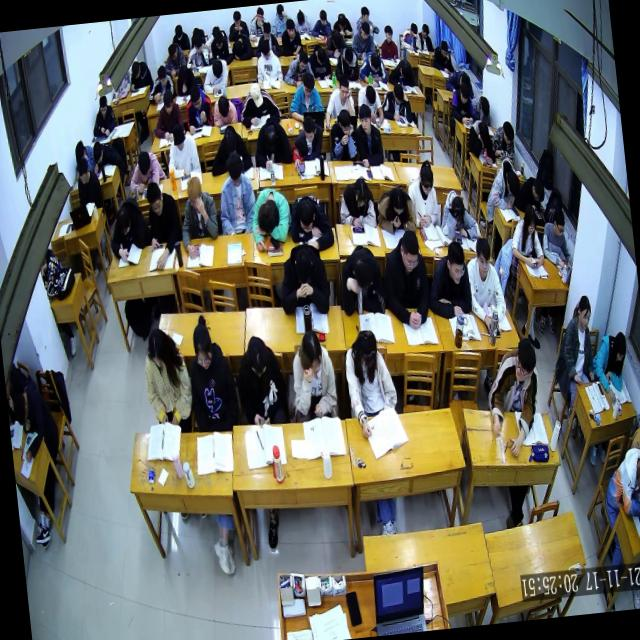bow: (247, 181, 296, 252), (286, 188, 336, 252), (106, 194, 150, 264), (250, 113, 295, 174), (206, 120, 253, 176), (436, 186, 481, 244), (237, 76, 282, 132), (372, 183, 418, 237), (124, 146, 168, 198), (278, 49, 314, 90), (514, 173, 548, 212), (357, 48, 388, 89), (90, 136, 122, 171), (386, 56, 416, 91), (172, 62, 198, 99), (443, 67, 473, 98), (320, 26, 347, 58), (127, 58, 153, 91), (230, 30, 254, 61)
down: (8, 372, 61, 464), (298, 325, 326, 376), (189, 320, 216, 370), (244, 331, 272, 379), (396, 226, 422, 274), (443, 237, 468, 285), (348, 245, 374, 291), (145, 326, 169, 371), (356, 327, 380, 372), (291, 247, 315, 289), (144, 178, 166, 218), (296, 194, 317, 234), (184, 173, 205, 211), (224, 150, 244, 187), (258, 121, 280, 153), (12, 388, 30, 425), (418, 161, 436, 198), (113, 206, 133, 239), (351, 174, 370, 207), (610, 330, 628, 364), (389, 185, 407, 218), (449, 194, 466, 228), (170, 121, 188, 153), (521, 204, 538, 237), (503, 168, 520, 199), (160, 86, 177, 116), (220, 126, 238, 154), (300, 114, 317, 143), (135, 150, 153, 177), (75, 156, 91, 186), (188, 82, 204, 112), (300, 69, 316, 99), (336, 108, 352, 138), (551, 207, 567, 237), (248, 80, 265, 108), (336, 74, 352, 102), (390, 78, 406, 105), (530, 175, 546, 202), (476, 118, 491, 146), (216, 94, 232, 120), (90, 138, 104, 166), (501, 120, 516, 146), (398, 58, 413, 83), (210, 58, 224, 82), (296, 48, 310, 72), (363, 82, 377, 106), (358, 18, 372, 42), (185, 240, 201, 261), (314, 45, 328, 68), (259, 36, 272, 60), (369, 50, 382, 74), (457, 80, 470, 104), (478, 93, 491, 117), (342, 44, 355, 67), (129, 59, 143, 80), (633, 460, 640, 501), (192, 34, 205, 56), (167, 41, 180, 62), (97, 94, 109, 116), (176, 62, 188, 84), (230, 8, 242, 30), (261, 20, 273, 42), (212, 30, 225, 50), (331, 30, 344, 50), (284, 18, 296, 39), (335, 9, 347, 30), (274, 3, 286, 23), (438, 37, 449, 58), (172, 23, 183, 42), (295, 8, 306, 27), (318, 8, 328, 28), (420, 22, 430, 40), (408, 22, 418, 40)
lookup: (473, 235, 493, 279), (574, 294, 592, 331), (356, 101, 374, 134), (154, 62, 170, 86), (254, 6, 266, 27), (383, 24, 394, 44)
sit: (481, 335, 546, 460), (180, 311, 240, 435), (341, 325, 401, 440), (138, 323, 198, 437), (376, 226, 434, 334), (230, 330, 290, 426), (284, 325, 340, 421), (460, 232, 510, 332), (548, 292, 600, 388), (273, 236, 331, 320), (212, 147, 260, 240), (335, 239, 388, 320), (423, 236, 474, 320), (175, 170, 222, 260), (142, 176, 185, 270), (596, 443, 640, 522), (591, 328, 633, 402), (402, 156, 441, 230), (506, 204, 546, 272), (162, 117, 202, 181), (287, 110, 326, 171), (335, 174, 377, 230), (286, 66, 327, 122), (319, 73, 357, 133), (483, 155, 522, 213), (353, 99, 385, 169), (538, 206, 572, 269), (326, 106, 360, 166), (150, 87, 185, 142), (182, 80, 214, 134), (465, 116, 497, 170), (74, 154, 104, 210), (378, 78, 414, 124), (252, 36, 284, 83), (354, 81, 386, 128), (144, 61, 177, 106), (488, 120, 518, 166), (448, 79, 477, 125), (89, 90, 117, 136), (200, 56, 231, 96), (350, 18, 378, 59), (160, 38, 188, 78), (332, 44, 360, 84), (204, 26, 233, 64), (253, 20, 281, 58), (210, 90, 238, 128), (278, 17, 304, 57), (182, 31, 209, 69), (306, 42, 333, 80), (224, 7, 250, 44), (430, 36, 455, 74), (378, 22, 400, 62), (308, 7, 334, 40), (246, 6, 268, 42), (270, 2, 292, 37), (470, 94, 492, 128), (330, 8, 353, 40), (399, 21, 423, 51), (170, 20, 191, 50), (292, 4, 312, 34), (416, 22, 434, 52)
